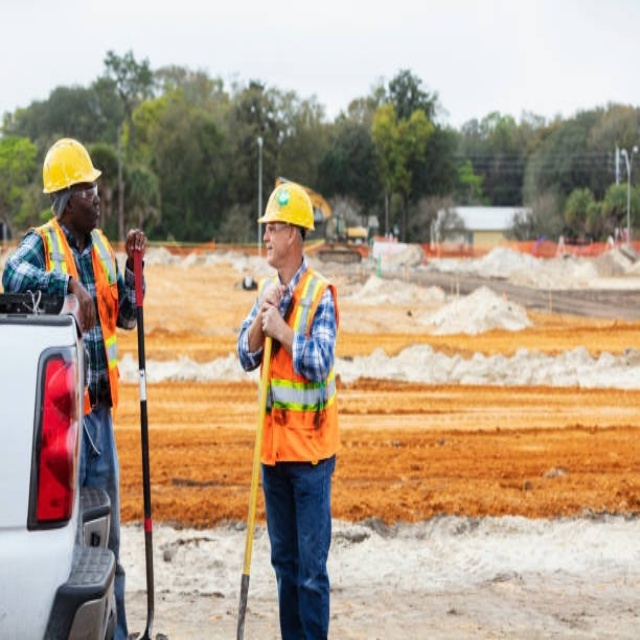Gafas: (69, 184, 99, 198), (265, 222, 291, 234)
Sin_guantes: (69, 277, 97, 335), (259, 301, 285, 339), (261, 280, 286, 318), (126, 229, 146, 259)
Sin_mascara: (83, 201, 104, 226), (266, 238, 283, 260)
